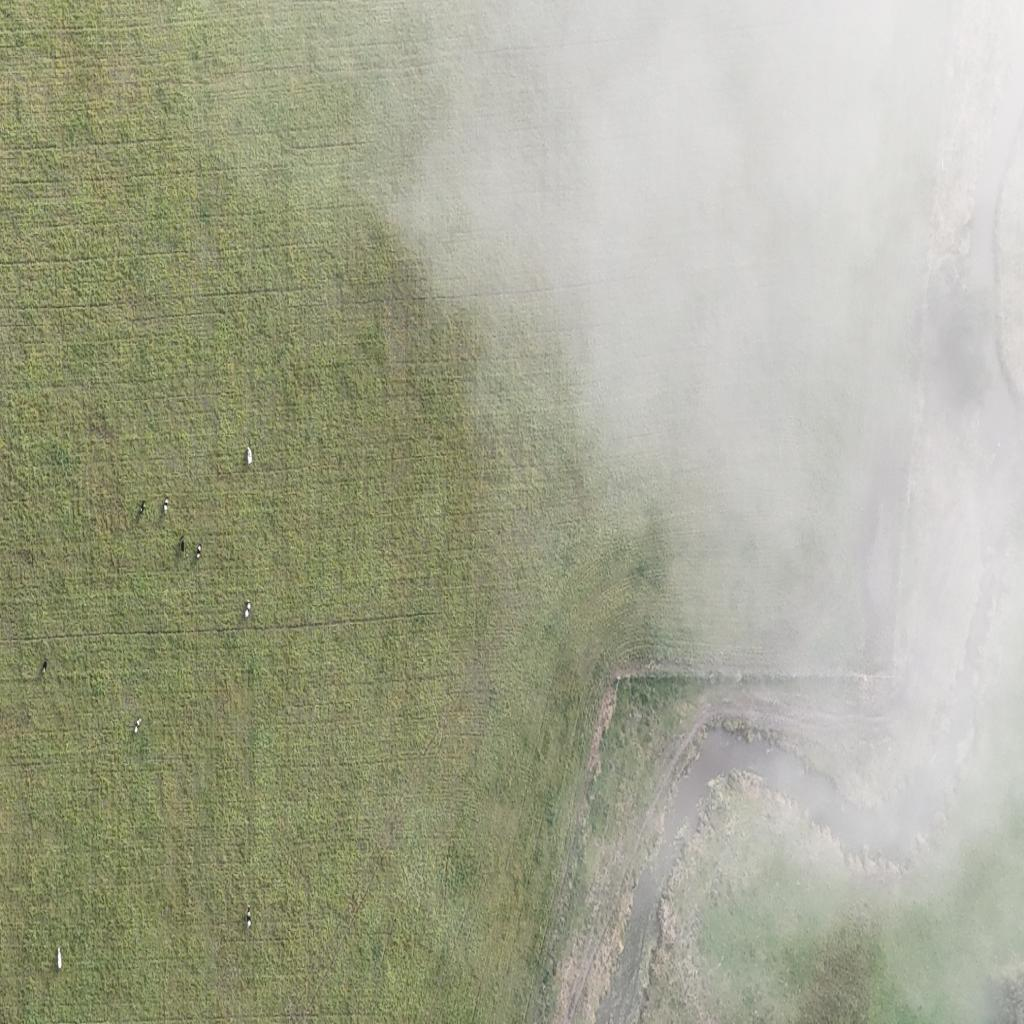cow: (132, 717, 142, 733), (244, 601, 252, 619), (57, 946, 62, 970), (247, 446, 252, 464), (43, 658, 48, 675), (139, 502, 145, 516), (247, 908, 251, 928), (196, 544, 201, 559), (164, 497, 168, 515), (180, 538, 184, 552)
